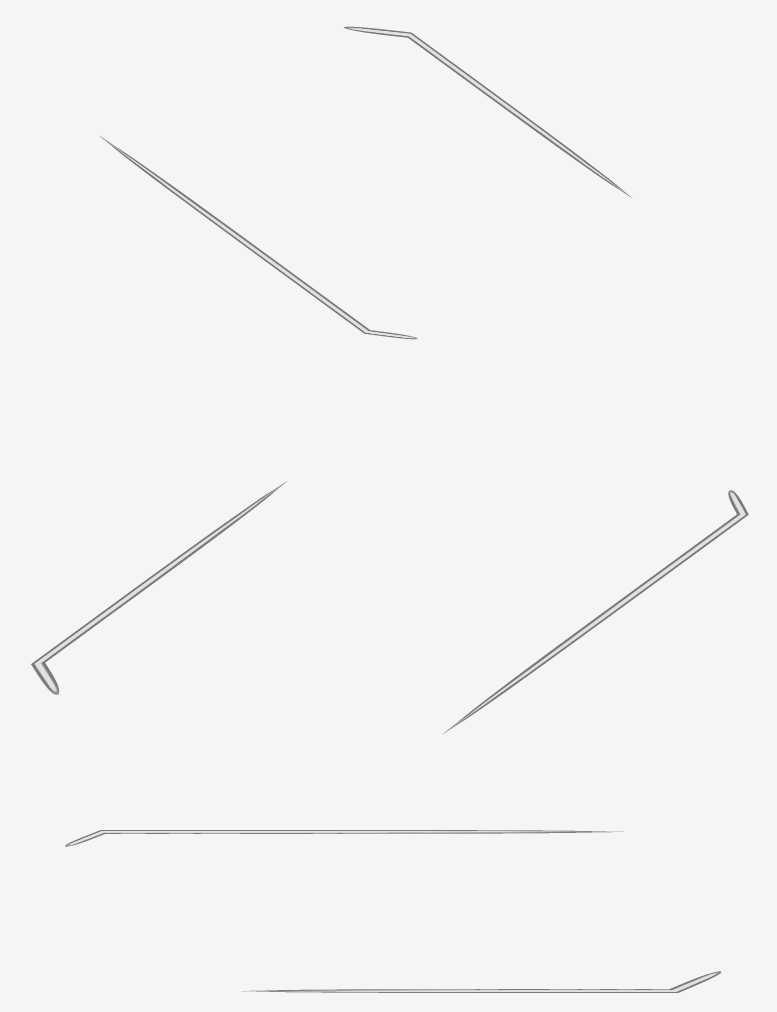
File: guanka_buttonedge.FBX
The picture shows the model from 3 angles, top to bottom: view 1: azimuth 30°, elevation 25°; view 2: azimuth 150°, elevation 25°; view 3: azimuth 270°, elevation 25°; orthographic projection. The views are drawn at different scales.
Visible parts, largest first — view 1: guaka_buttonedge; view 2: guaka_buttonedge; view 3: guaka_buttonedge.
Part boxes in pixels (x1,y1,x2,y2): guaka_buttonedge: [100, 26, 631, 339]; guaka_buttonedge: [31, 481, 748, 733]; guaka_buttonedge: [65, 830, 721, 992].
Size of the model in its own units: 242 by 1.26e-13 by 445.
1 material, 1 textured.
